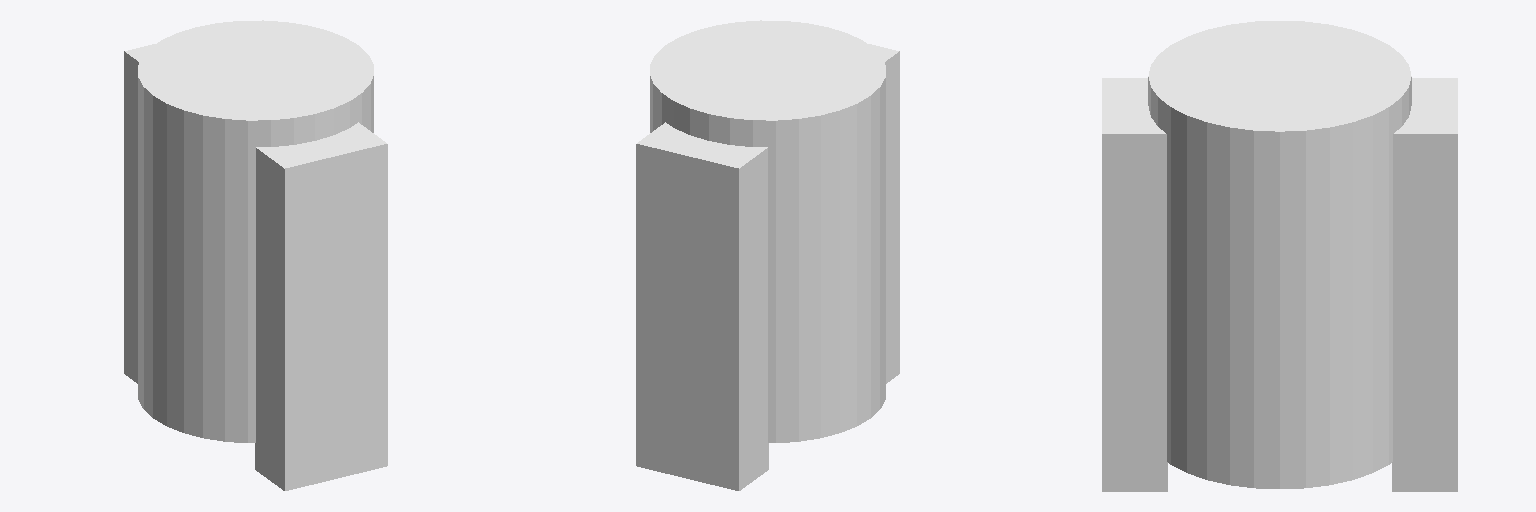
robot.urdf — myfirst:
<?xml version="1.0"?>
<!-- ros2 launch tf2_basic urdf_display.launch.py model:=urdf/02_leg_joint.urdf -->
<robot name="myfirst">
    <material name="blue">
        <color rgba="0 0 0.8 1"/>
    </material>

    <material name="white">
        <color rgba="1 1 1 1"/>
    </material>

    <link name="base_link">
        <visual>
            <geometry>
                <cylinder length="0.6" radius="0.2"/>
            </geometry>
            <material name="white"/>
        </visual>
    </link>
    <link name="right_leg">
        <visual>
            <geometry>
                <box size="0.6 0.1 0.2"/>
            </geometry>
            <material name="white"/>
            <origin rpy="0 1.57075 0" xyz="0 0 -0.3"/>
        </visual>
    </link>
    <link name="left_leg">
        <visual>
            <geometry>
                <box size="0.6 0.1 0.2"/>
            </geometry>
            <material name="white"/>
            <origin rpy="0 1.57075 0" xyz="0 0 -0.3"/>
        </visual>
    </link>
    <joint name="base_to_right_leg" type="fixed">
        <parent link="base_link"/>
        <child link="right_leg"/>
        <origin xyz="0 -0.22 0.25"/>
    </joint>
    <joint name="base_to_left_leg" type="fixed">
        <parent link="base_link"/>
        <child link="left_leg"/>
        <origin xyz="0 0.22 0.25"/>
    </joint>

</robot>

--- Facts derived from the render (not from the file) ---
3 views of the same robot in one strip: view 1: azimuth 30°, elevation 25°; view 2: azimuth 150°, elevation 25°; view 3: azimuth 270°, elevation 25° (orthographic).
Robot: myfirst — 3 links, 2 joints (2 fixed); root link base_link; default pose: all joints at 0.
Visible links, largest first — view 1: base_link, right_leg, left_leg; view 2: base_link, left_leg, right_leg; view 3: base_link, right_leg, left_leg.
Link boxes in pixels (box(x1,y1,x2,y2)): base_link: box(138, 20, 373, 442); right_leg: box(255, 122, 387, 490); left_leg: box(124, 44, 154, 383); base_link: box(650, 20, 885, 442); left_leg: box(636, 122, 768, 490); right_leg: box(869, 44, 899, 383); base_link: box(1148, 21, 1411, 488); right_leg: box(1102, 78, 1167, 491); left_leg: box(1392, 78, 1457, 491).
Size in the robot's own frame: 0.4 by 0.54 by 0.65 metres.
Geometry: primitives only (box / cylinder / sphere), no mesh files.
